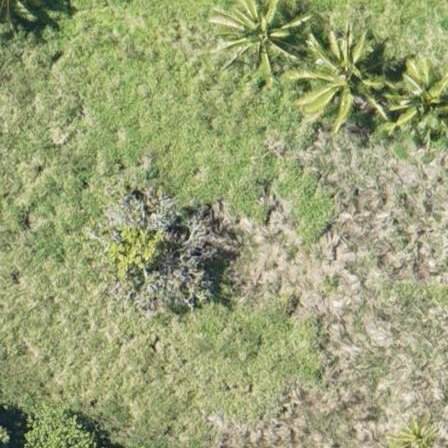palm_tree: (310, 37, 379, 111), (221, 0, 291, 65), (391, 63, 448, 133)
